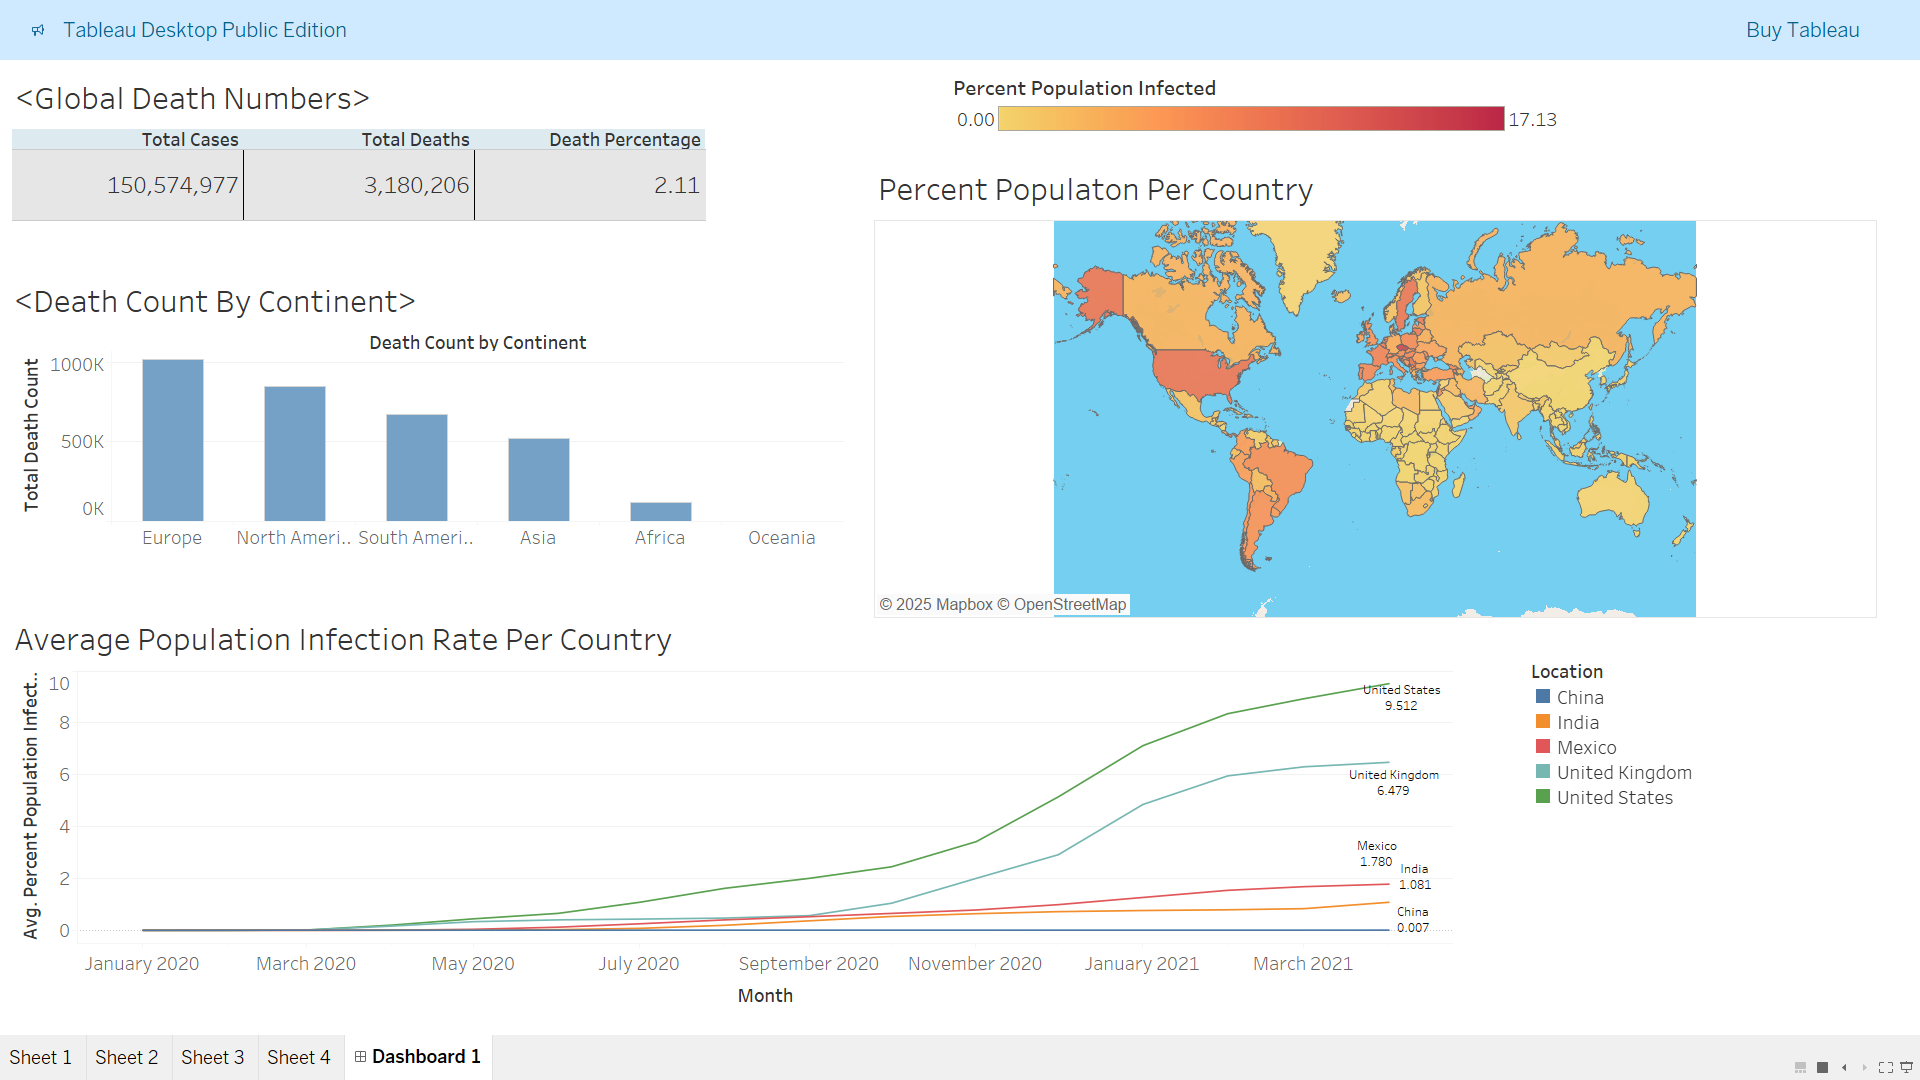

Layout of this report page (visuals, bound fields, positions):
{"tool":"tableau","page":{"name":"Dashboard 1","canvas":[1000,1000],"units":"permille","ordinal":0},"visuals":[{"type":"worksheet","title":"Sheet 1","mark":"Automatic","box":[5,10.6,990,207.1]},{"type":"legend","title":"Sheet 3","param":"[federated.1umv29b1777ick13bbld11ys7rft].[sum:PercentPopulationInfected:qk]","box":[496.3,13.2,317.3,84.4]},{"type":"worksheet","title":"Sheet 3","mark":"Automatic","box":[455.1,105.5,522.4,467]},{"type":"worksheet","title":"Sheet 2","mark":"Automatic","rows":["TotalDeathCount"],"cols":["Location"],"box":[5.6,220.3,433.9,282.3]},{"type":"worksheet","title":"Sheet 4","mark":"Automatic","rows":["PercentPopulationInfected"],"cols":["Date"],"box":[5,567.3,751.9,424.8]},{"type":"legend","title":"Sheet 4","param":"[federated.1xzgflq0j9n2s113ebeci0go5zoe].[none:Location:nk]","box":[797.4,613.5,104.1,199.2]}]}

Visuals, with their boxes on the dashboard's canvas, which has no fixed pixel size, in thousandths of its width and height (x1, y1, x2, y2). These are canvas units, not pixel positions in the 1920x1080 screenshot, which may show the page scaled, cropped or inside an application window:
"Sheet 1" worksheet: bbox=(5, 11, 995, 218)
"Sheet 3" legend: bbox=(496, 13, 814, 98)
"Sheet 3" worksheet: bbox=(455, 106, 978, 572)
"Sheet 2" worksheet: bbox=(6, 220, 440, 503)
"Sheet 4" worksheet: bbox=(5, 567, 757, 992)
"Sheet 4" legend: bbox=(797, 614, 902, 813)
